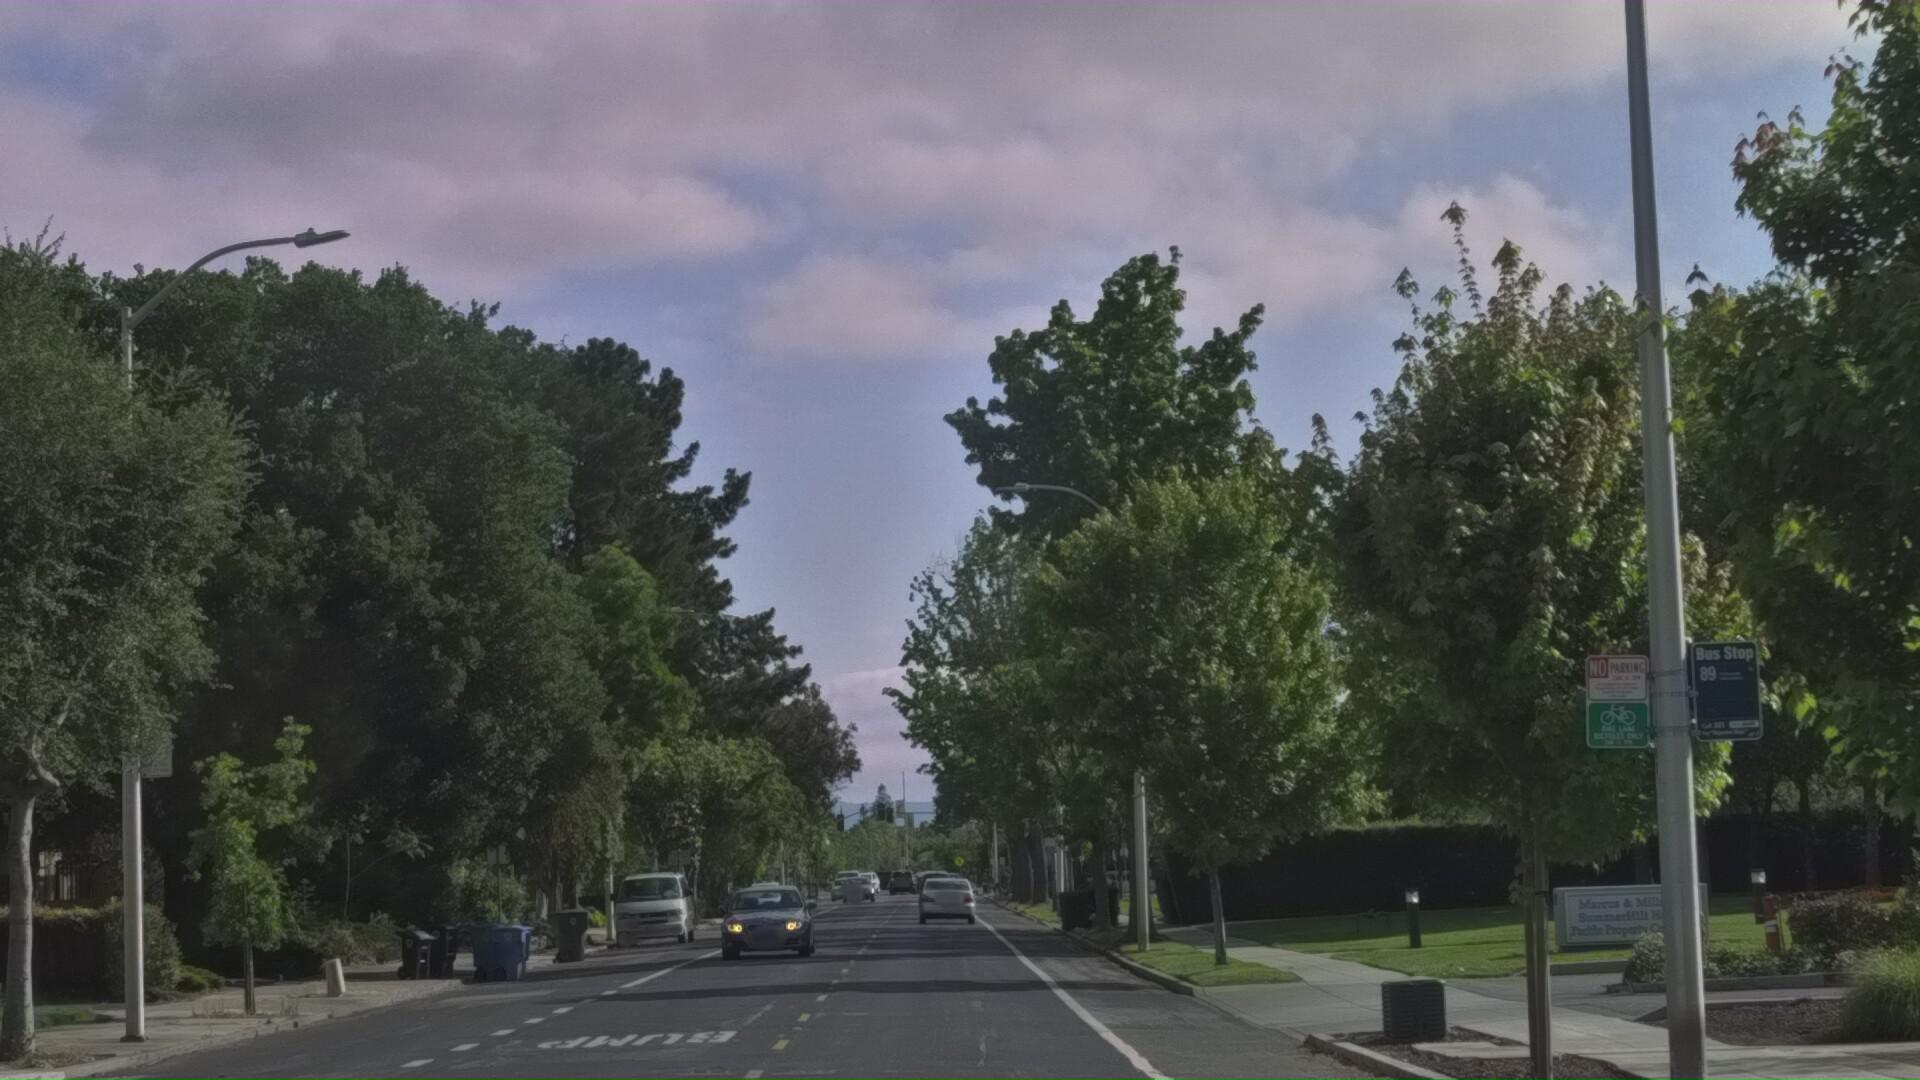car: (712, 984, 811, 1069)
